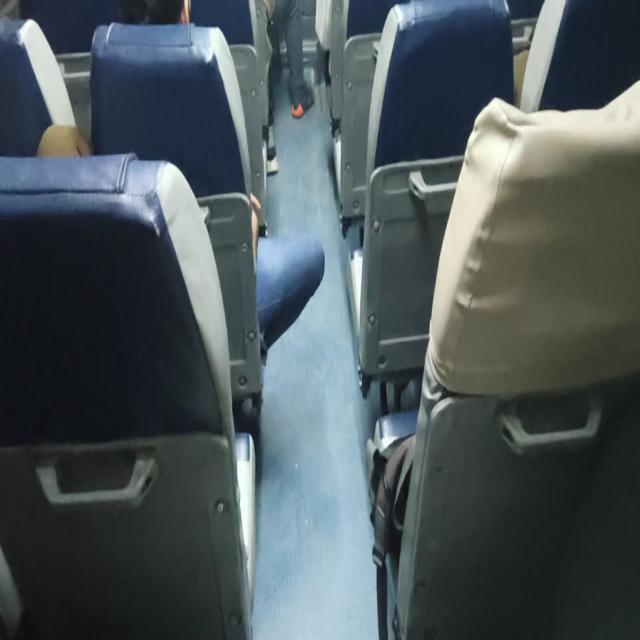person: (36, 1, 325, 362), (266, 0, 314, 119), (119, 0, 191, 25)
